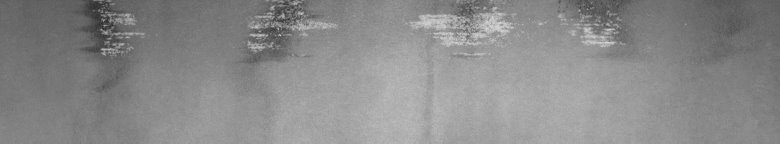hc: (76, 4, 145, 95)
